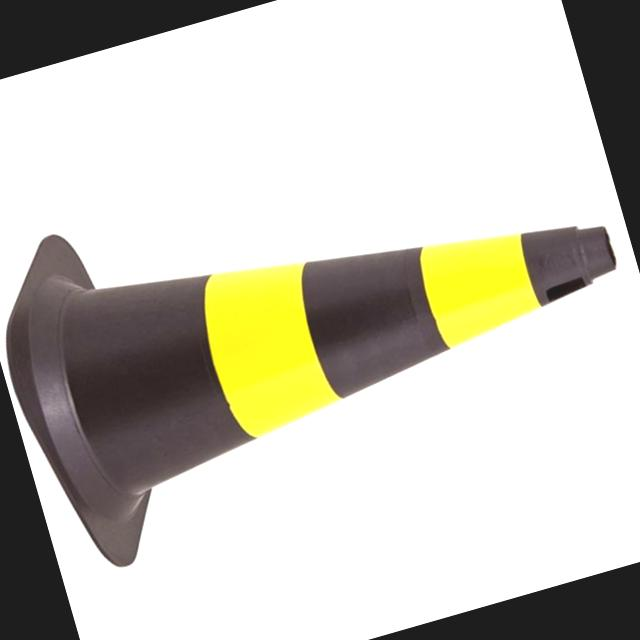cone: (0, 59, 640, 596)
